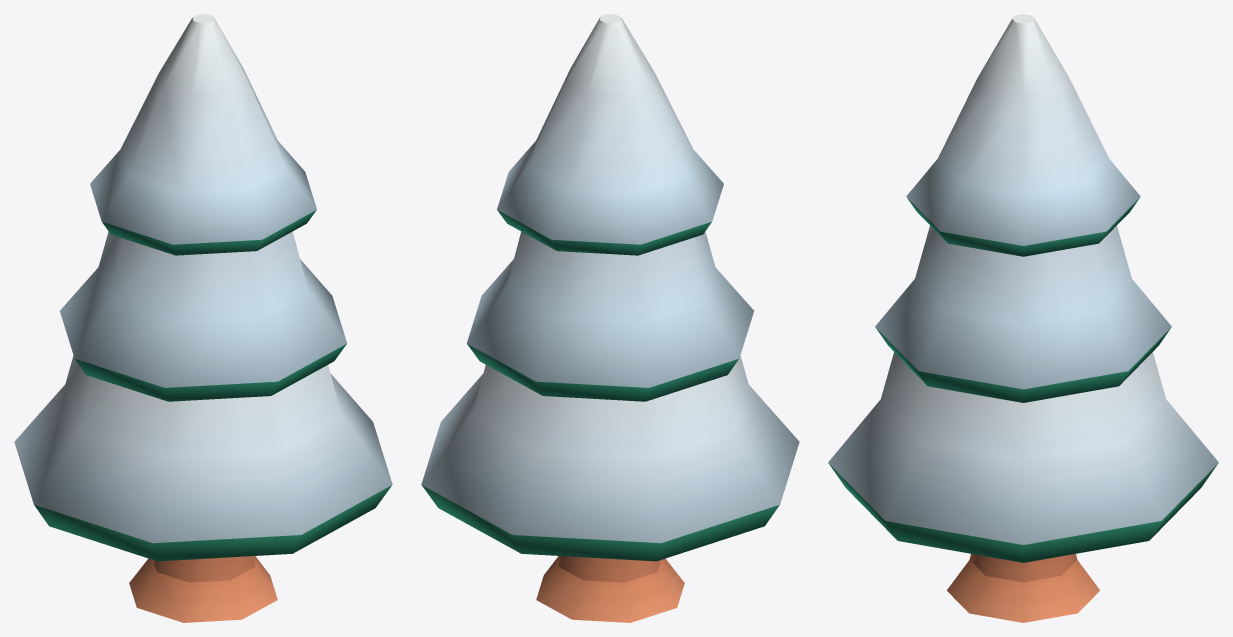
Rendered from k-holiday-tree-snow-c.glb.
The picture shows the model from 3 angles, left to right: view 1: azimuth 30°, elevation 25°; view 2: azimuth 150°, elevation 25°; view 3: azimuth 270°, elevation 25°; orthographic projection.
Parts seen in each view (by area): view 1: tree-snow-c; view 2: tree-snow-c; view 3: tree-snow-c.
Part boxes in pixels (x1=…): tree-snow-c: x1=14, y1=14, x2=392, y2=622; tree-snow-c: x1=421, y1=14, x2=799, y2=622; tree-snow-c: x1=828, y1=14, x2=1218, y2=622.
Size of the model in its own units: 1.19 by 1.92 by 1.19.
1 material, 1 textured.
